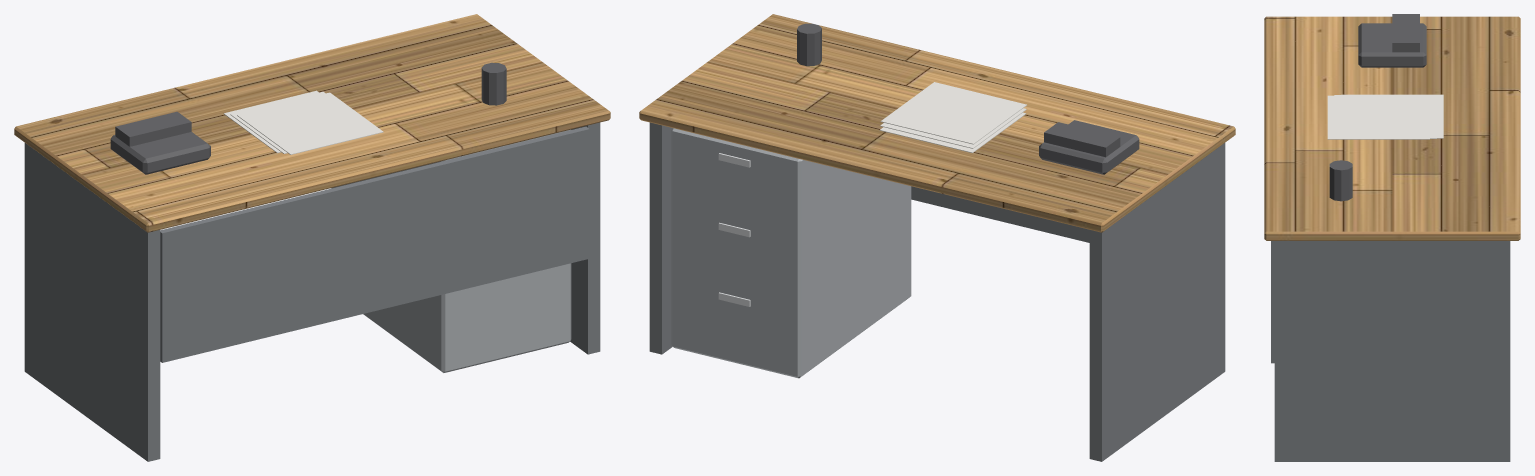
The model's file is desk.glb.
The picture shows the model from 3 angles, left to right: view 1: azimuth 30°, elevation 25°; view 2: azimuth 150°, elevation 25°; view 3: azimuth 270°, elevation 25°; orthographic projection. The views are drawn at different scales.
Visible parts, largest first — view 1: desk_steel_d, desk_wood, desk_steel, desk_paper, desk_dark; view 2: desk_wood, desk_steel, desk_steel_d, desk_paper, desk_dark, desk_chrome; view 3: desk_steel_d, desk_wood, desk_paper, desk_dark.
Part boxes in pixels (x1,y1,x2,y2): desk_steel_d: [24, 122, 600, 461]; desk_wood: [14, 14, 610, 232]; desk_steel: [331, 129, 571, 372]; desk_paper: [223, 90, 383, 154]; desk_dark: [110, 62, 506, 174]; desk_wood: [639, 14, 1235, 232]; desk_steel: [671, 128, 911, 378]; desk_steel_d: [649, 122, 1225, 461]; desk_paper: [879, 82, 1026, 153]; desk_dark: [797, 23, 1139, 174]; desk_chrome: [718, 153, 750, 306]; desk_steel_d: [1271, 241, 1510, 461]; desk_wood: [1264, 16, 1520, 240]; desk_paper: [1327, 94, 1443, 139]; desk_dark: [1329, 14, 1426, 201].
Bounding box in the file's own units: 1.5 × 0.85 × 0.75.
6 materials, 1 textured.
